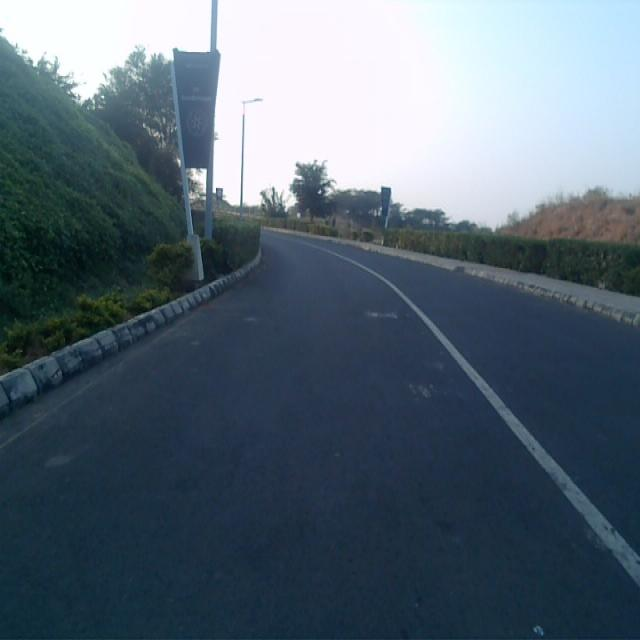lane: (0, 233, 640, 640)
